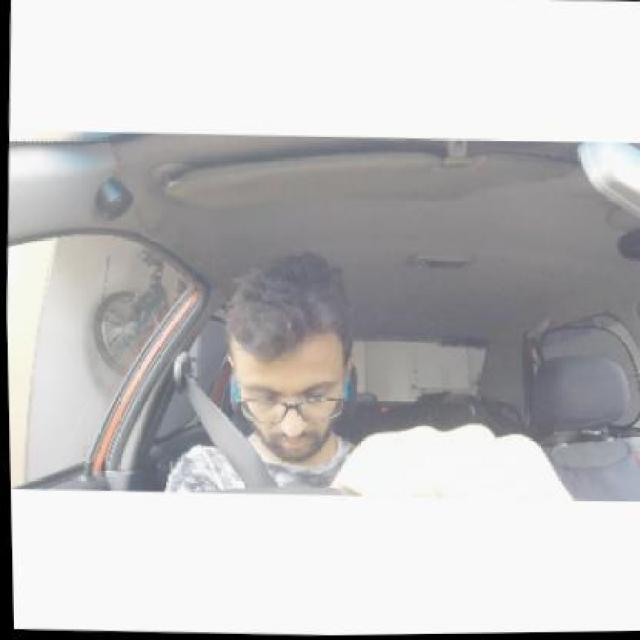drowsy: (217, 265, 355, 460)
